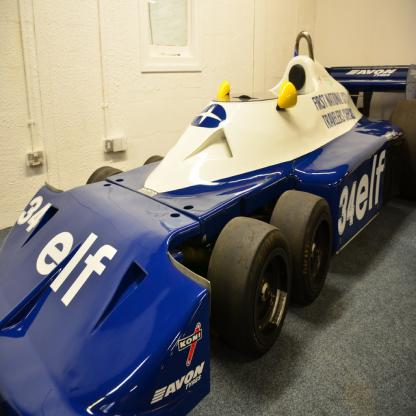Car: (1, 29, 416, 416)
